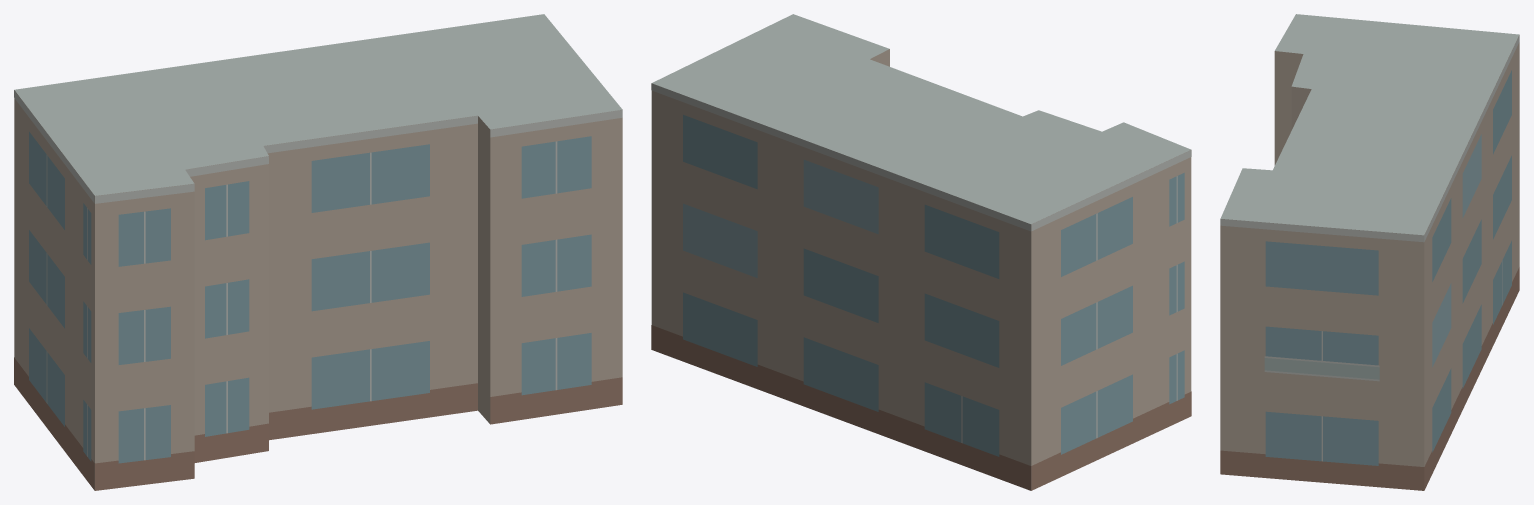
File: survey-upis-32782808.glb
The picture shows the model from 3 angles, left to right: view 1: azimuth 30°, elevation 25°; view 2: azimuth 150°, elevation 25°; view 3: azimuth 270°, elevation 25°; orthographic projection. The views are drawn at different scales.
Parts seen in each view (by area): view 1: survey-upis-32782808.tmp; view 2: survey-upis-32782808.tmp; view 3: survey-upis-32782808.tmp.
Part boxes in pixels (x1,y1,x2,y2): survey-upis-32782808.tmp: (14,14,622,490); survey-upis-32782808.tmp: (651,14,1191,490); survey-upis-32782808.tmp: (1220,14,1519,490).
Size of the model in its own units: 16.73 by 9 by 9.56.
